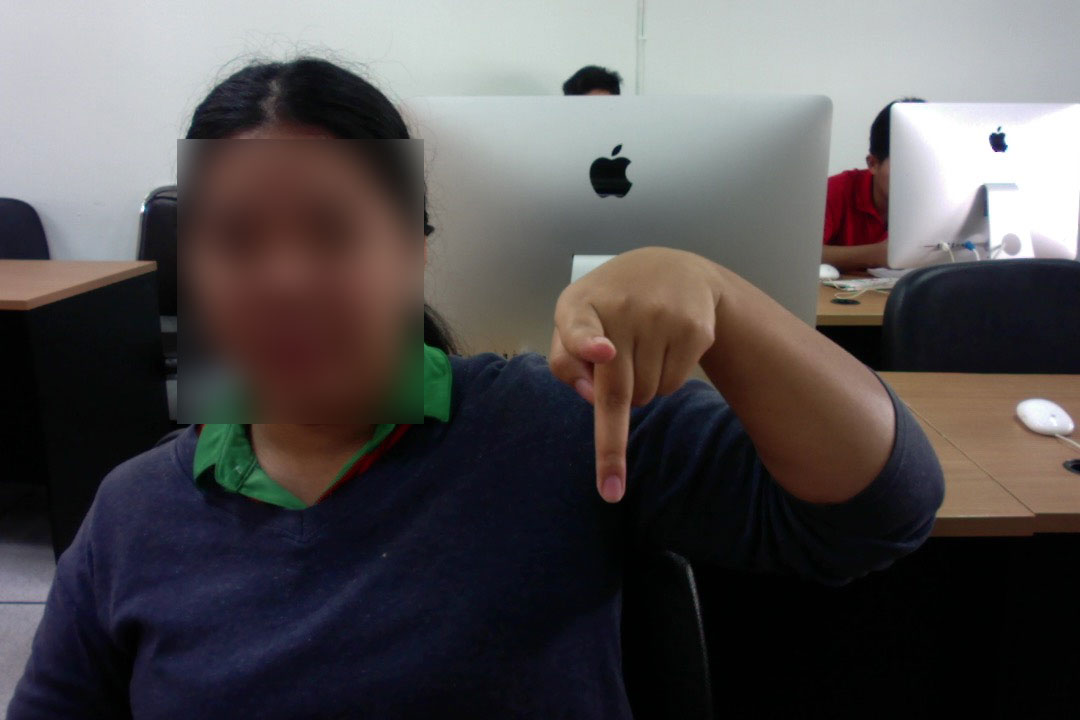por: (541, 230, 727, 507)
